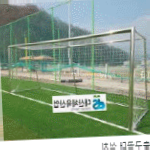goals: (7, 25, 150, 132)
